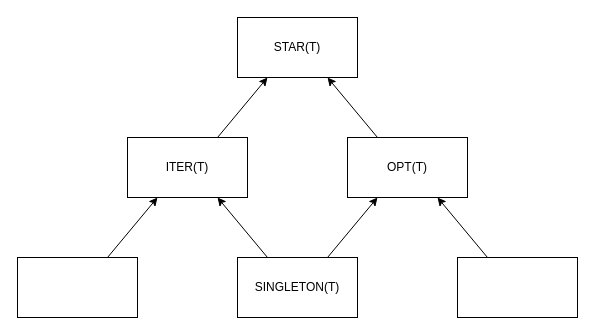
Some shapes in this 595 by 335 pixel diagram are drawn without their labels. The shapes that lost their labels are listed below. From the top down, each one's centre as x and y in pixels, then its label:
At pixel 77 287: "MULTI(T)".
At pixel 517 287: "EMPTY()".
